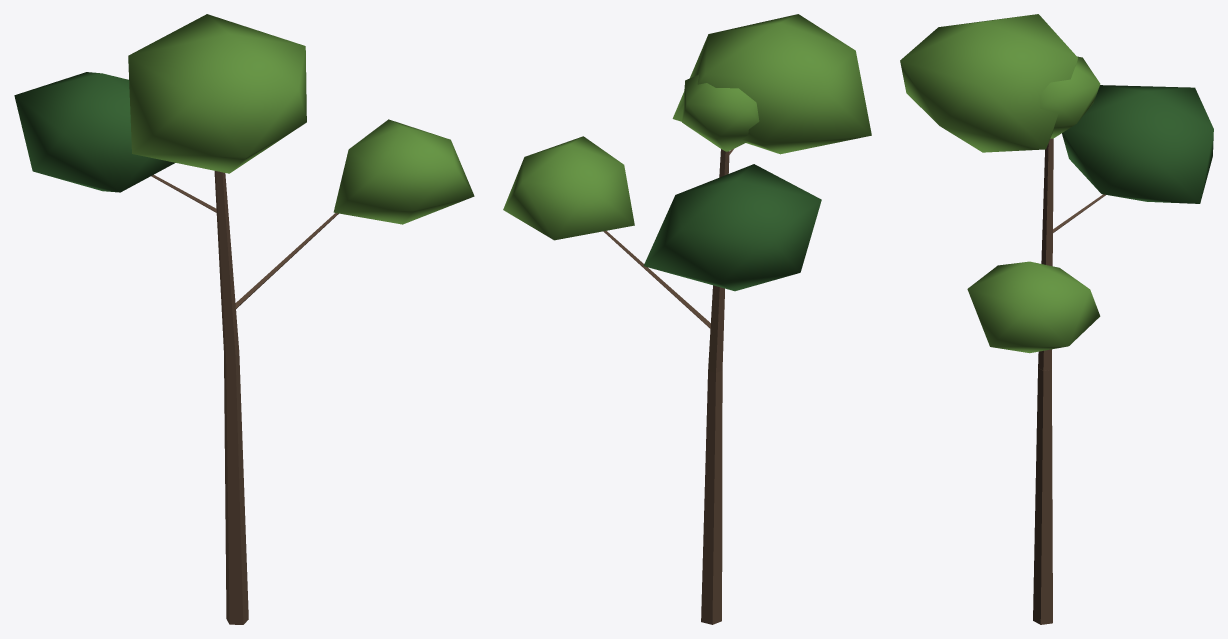
File: v15-pohon-ramping-lod.glb
3 renders of one model, left to right at view 1: azimuth 30°, elevation 25°; view 2: azimuth 150°, elevation 25°; view 3: azimuth 270°, elevation 25°, orthographic. The views are drawn at different scales.
Parts seen in each view (by area): view 1: EX_unri:daun-terang, EX_unri:daun-gelap, EX_unri:kulit-kayu; view 2: EX_unri:daun-terang, EX_unri:daun-gelap, EX_unri:kulit-kayu; view 3: EX_unri:daun-terang, EX_unri:daun-gelap, EX_unri:kulit-kayu.
Boxes of the visible parts, x1=… form: EX_unri:daun-terang: x1=128, y1=14, x2=474, y2=224; EX_unri:daun-gelap: x1=14, y1=72, x2=175, y2=192; EX_unri:kulit-kayu: x1=151, y1=171, x2=338, y2=624; EX_unri:daun-terang: x1=503, y1=14, x2=871, y2=240; EX_unri:daun-gelap: x1=643, y1=164, x2=821, y2=291; EX_unri:kulit-kayu: x1=603, y1=148, x2=734, y2=624; EX_unri:daun-terang: x1=900, y1=14, x2=1100, y2=353; EX_unri:daun-gelap: x1=1062, y1=85, x2=1213, y2=203; EX_unri:kulit-kayu: x1=1033, y1=138, x2=1105, y2=624.
Bounding box in the file's own units: 10.5 × 17.37 × 8.52.
